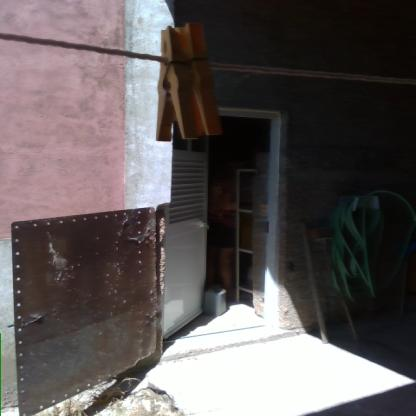semi: (159, 98, 292, 358)
